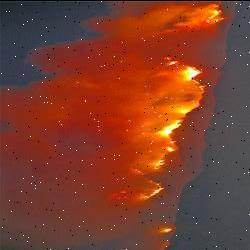fire: (137, 2, 228, 250)
